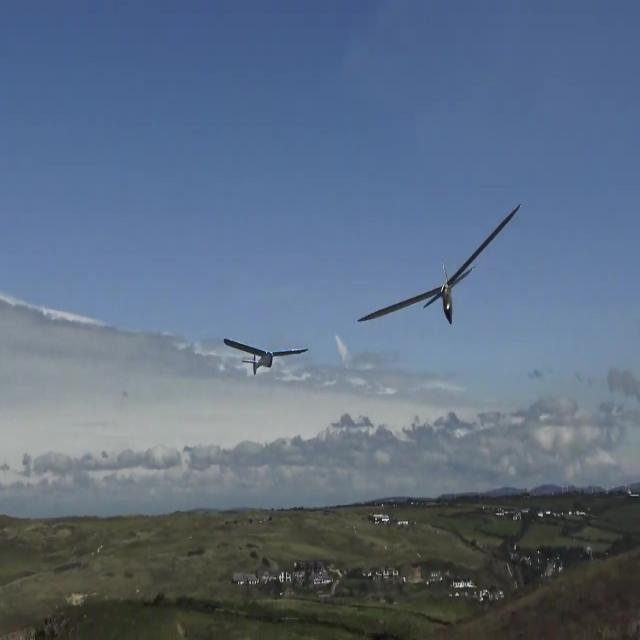iha: (356, 226, 522, 289), (248, 336, 271, 377)
